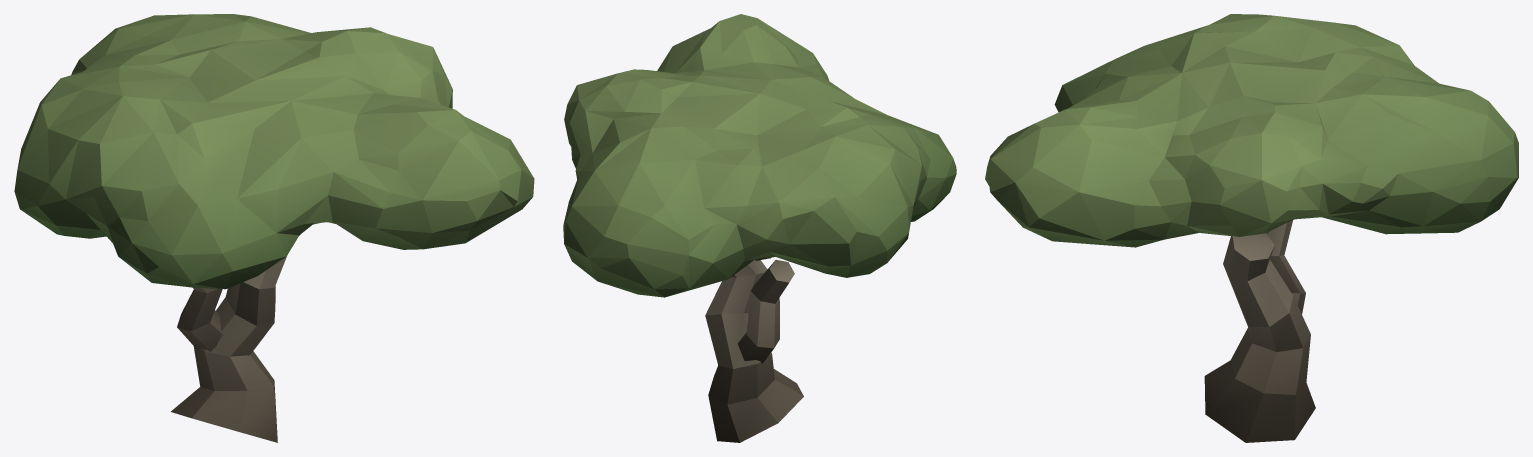
The model's file is oliwka_2.glb.
3 views of the same model, side by side, from view 1: azimuth 30°, elevation 25°; view 2: azimuth 150°, elevation 25°; view 3: azimuth 270°, elevation 25° (orthographic). The views are drawn at different scales.
Visible parts, largest first — view 1: oliwka_2; view 2: oliwka_2; view 3: oliwka_2.
Part boxes in pixels (bbox=[...]): oliwka_2: bbox=[14, 14, 534, 442]; oliwka_2: bbox=[563, 14, 956, 442]; oliwka_2: bbox=[985, 14, 1518, 442].
Size of the model in its own units: 1.31 by 1.21 by 1.57.
